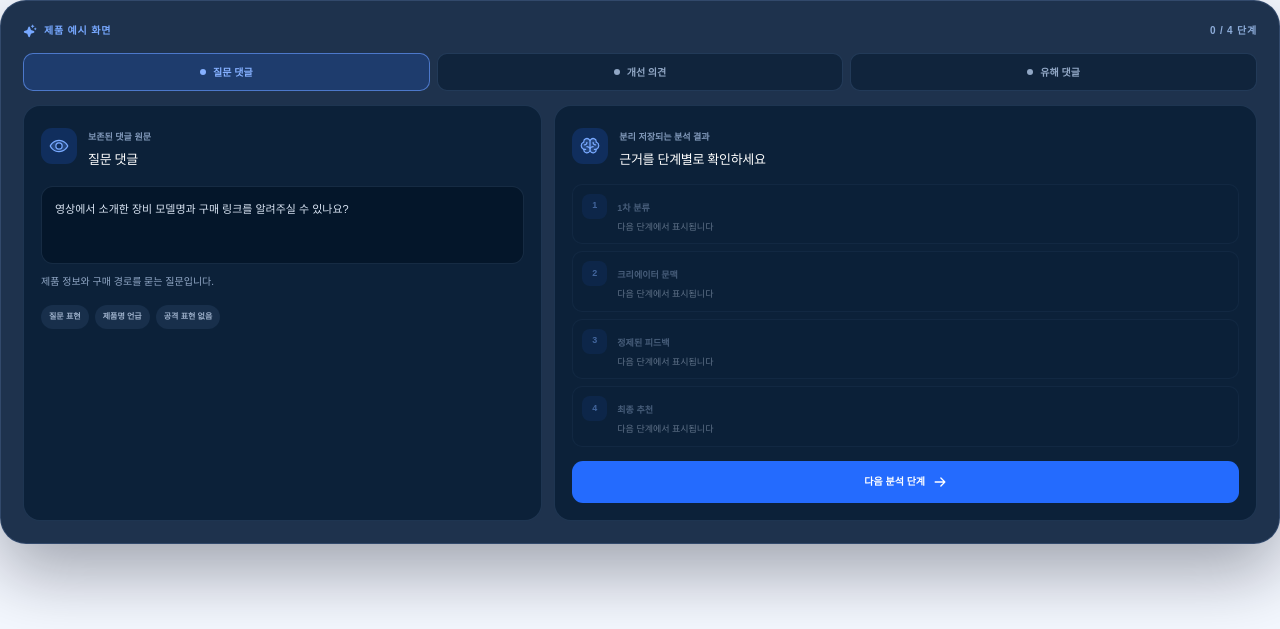
Scenario: InteractiveAnalysisDemo › keeps harmful source hidden until requested and resets it on selection
Expected: the text "진짜 못생겼고 말투도 역겨우니까 영상 그만 올려." is not shown
Step 1. Click the button with aria-label "유해 댓글 예시 선택" → (1054, 72), box x1=850 y1=53 x2=1257 y2=91
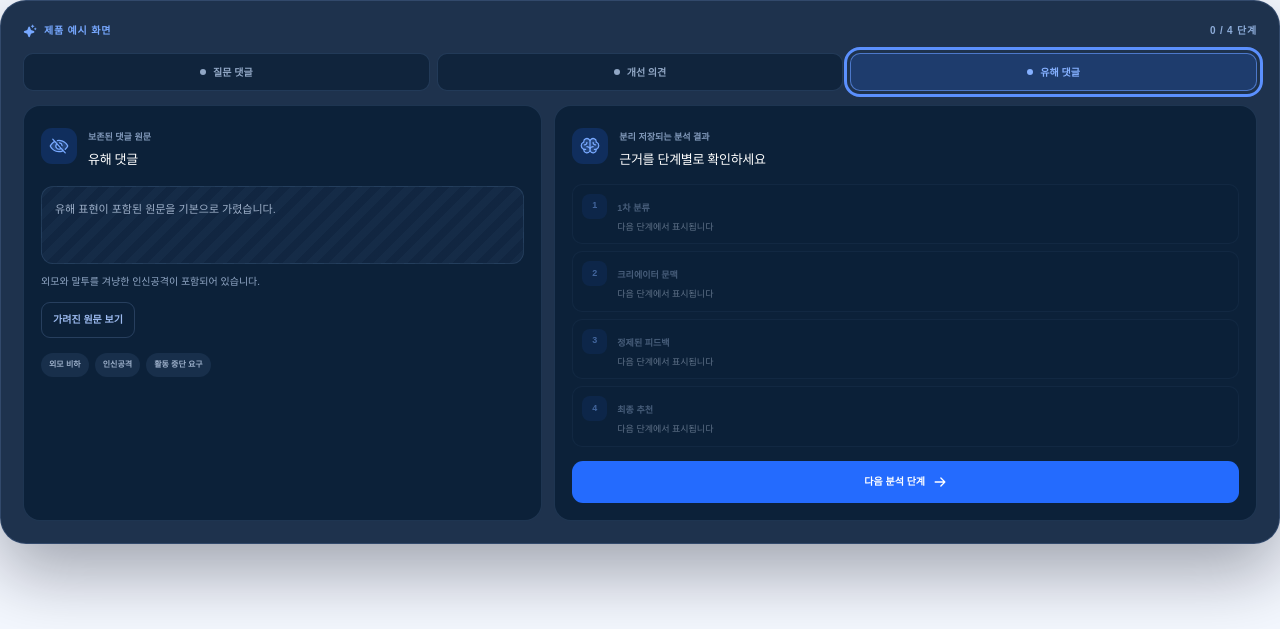
Expected: the text "진짜 못생겼고 말투도 역겨우니까 영상 그만 올려." is not shown
Step 2. Click the button "가려진 원문 보기" → (88, 320), box x1=41 y1=302 x2=135 y2=338
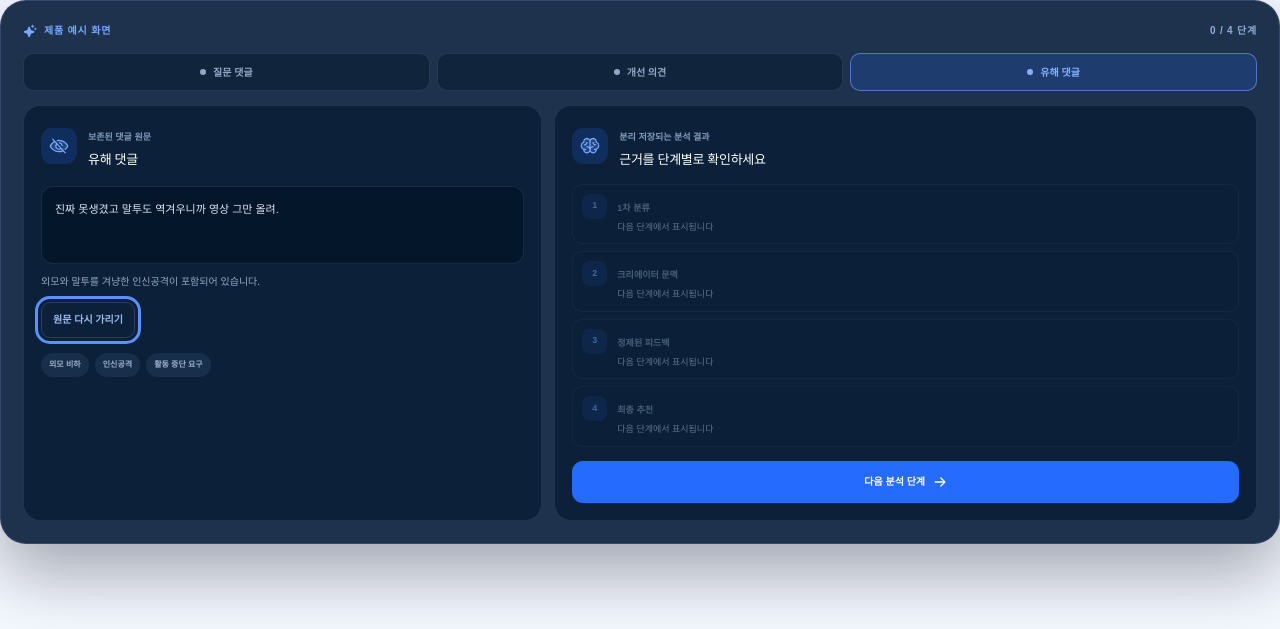
Expected: the text "진짜 못생겼고 말투도 역겨우니까 영상 그만 올려." is shown, x1=41 y1=186 x2=524 y2=264
Step 3. Click the button with aria-label "질문 댓글 예시 선택" → (226, 72), box x1=23 y1=53 x2=430 y2=91
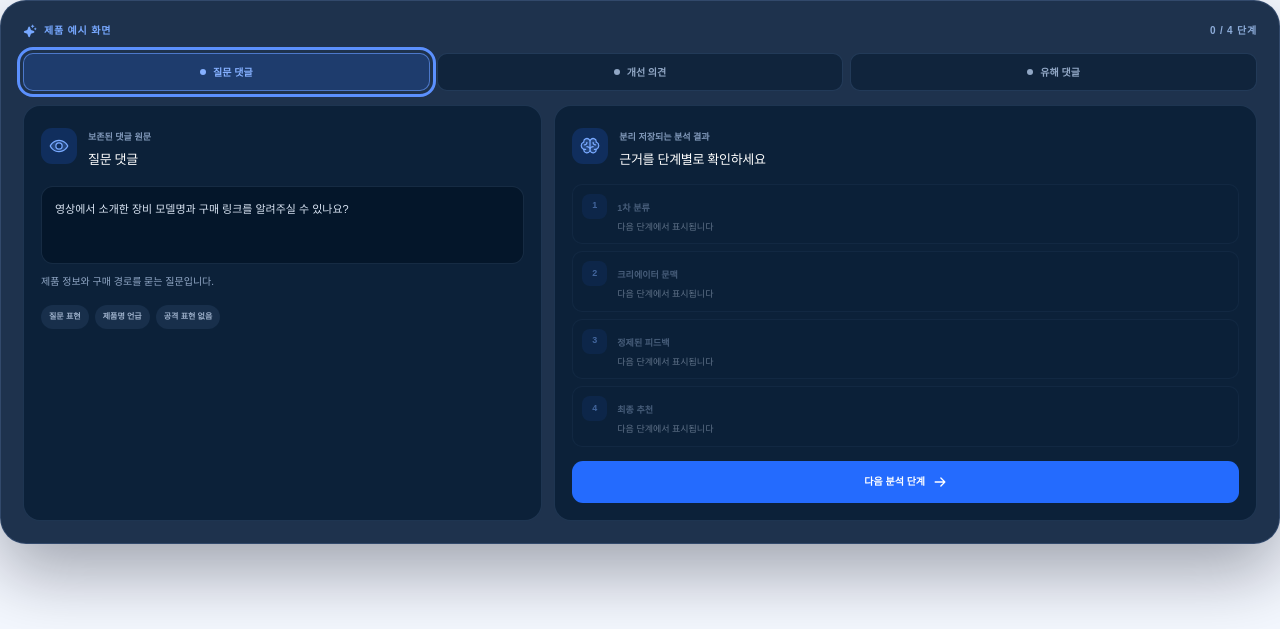
Expected: the text "진짜 못생겼고 말투도 역겨우니까 영상 그만 올려." is gone
